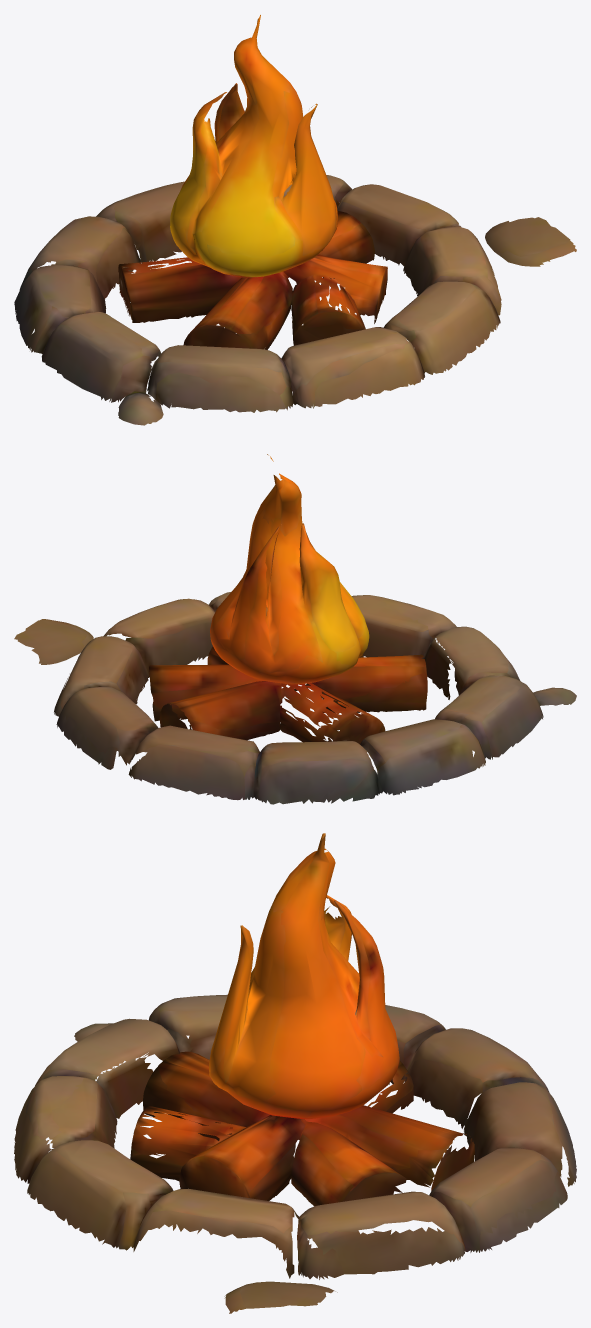
Rendered from campfire_github.glb.
3 views of the same model, one above another, from view 1: azimuth 30°, elevation 25°; view 2: azimuth 150°, elevation 25°; view 3: azimuth 270°, elevation 25° (orthographic). The views are drawn at different scales.
Parts seen in each view (by area): view 1: campfire_github; view 2: campfire_github; view 3: campfire_github.
Part boxes in pixels (x1=…): campfire_github: x1=14, y1=15, x2=576, y2=425; campfire_github: x1=14, y1=454, x2=576, y2=804; campfire_github: x1=14, y1=833, x2=576, y2=1313.
Bounding box in the file's own units: 0.3196 × 0.1695 × 0.2591.
Materials: 1 (1 with a texture image).
